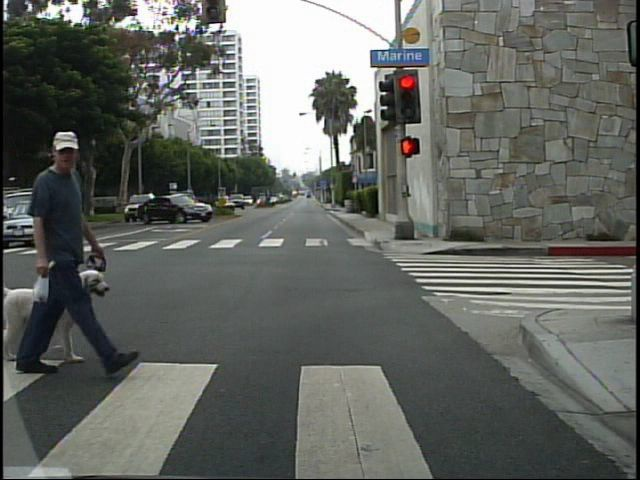person: (14, 114, 126, 382)
